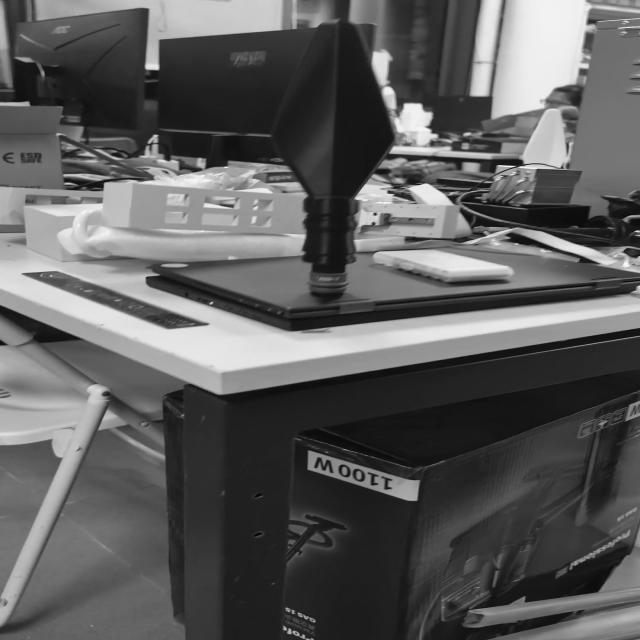base: (302, 268, 355, 300)
